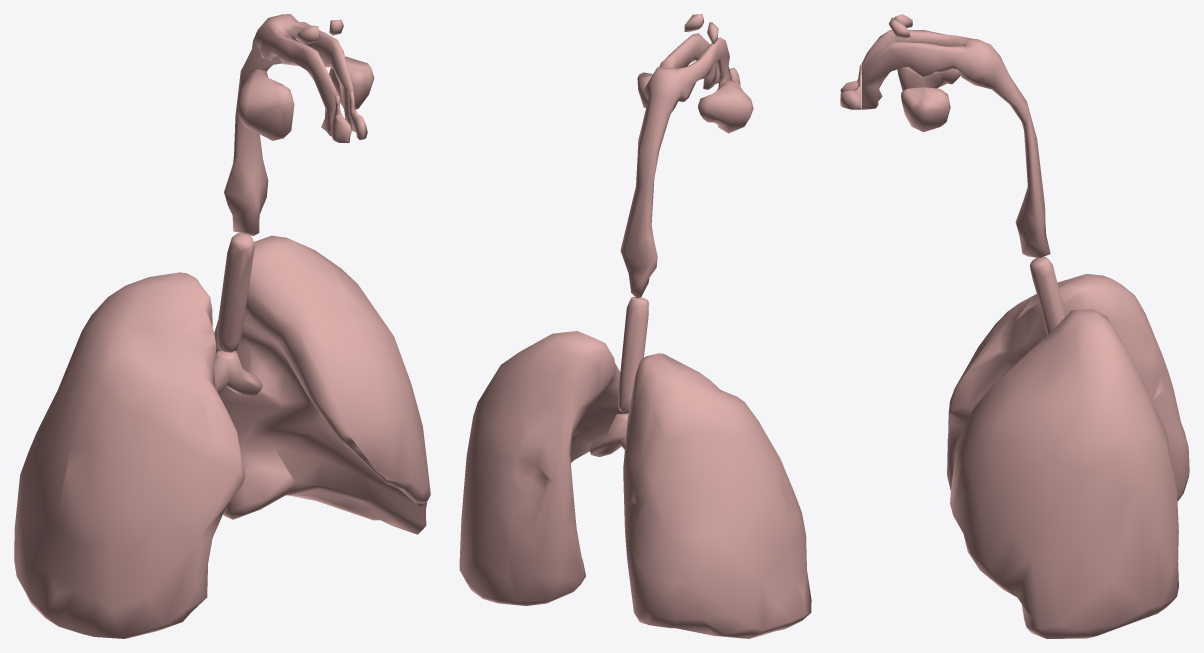
The model's file is pediatric_child_10y_male.respiratory.LOD2.glb.
3 views of the same model, side by side, from view 1: azimuth 30°, elevation 25°; view 2: azimuth 150°, elevation 25°; view 3: azimuth 270°, elevation 25° (orthographic). The views are drawn at different scales.
Visible parts, largest first — view 1: PEDIATRIC.CHILD_10Y.MALE.RESPIRATORY.LUNG.R, PEDIATRIC.CHILD_10Y.MALE.RESPIRATORY.LUNG.L, PEDIATRIC.CHILD_10Y.MALE.RESPIRATORY.ET2, PEDIATRIC.CHILD_10Y.MALE.RESPIRATORY.TRACHEA, PEDIATRIC.CHILD_10Y.MALE.RESPIRATORY.BB1, PEDIATRIC.CHILD_10Y.MALE.RESPIRATORY.ET1; view 2: PEDIATRIC.CHILD_10Y.MALE.RESPIRATORY.LUNG.R, PEDIATRIC.CHILD_10Y.MALE.RESPIRATORY.LUNG.L, PEDIATRIC.CHILD_10Y.MALE.RESPIRATORY.ET2, PEDIATRIC.CHILD_10Y.MALE.RESPIRATORY.TRACHEA, PEDIATRIC.CHILD_10Y.MALE.RESPIRATORY.BB1; view 3: PEDIATRIC.CHILD_10Y.MALE.RESPIRATORY.LUNG.L, PEDIATRIC.CHILD_10Y.MALE.RESPIRATORY.ET2, PEDIATRIC.CHILD_10Y.MALE.RESPIRATORY.LUNG.R, PEDIATRIC.CHILD_10Y.MALE.RESPIRATORY.TRACHEA, PEDIATRIC.CHILD_10Y.MALE.RESPIRATORY.ET1.
Boxes of the visible parts, x1=… form: PEDIATRIC.CHILD_10Y.MALE.RESPIRATORY.LUNG.R: x1=14, y1=272, x2=245, y2=638; PEDIATRIC.CHILD_10Y.MALE.RESPIRATORY.LUNG.L: x1=214, y1=235, x2=430, y2=534; PEDIATRIC.CHILD_10Y.MALE.RESPIRATORY.ET2: x1=224, y1=14, x2=374, y2=235; PEDIATRIC.CHILD_10Y.MALE.RESPIRATORY.TRACHEA: x1=216, y1=233, x2=254, y2=352; PEDIATRIC.CHILD_10Y.MALE.RESPIRATORY.BB1: x1=214, y1=350, x2=262, y2=396; PEDIATRIC.CHILD_10Y.MALE.RESPIRATORY.ET1: x1=330, y1=90, x2=367, y2=142; PEDIATRIC.CHILD_10Y.MALE.RESPIRATORY.LUNG.R: x1=623, y1=353, x2=811, y2=638; PEDIATRIC.CHILD_10Y.MALE.RESPIRATORY.LUNG.L: x1=459, y1=331, x2=628, y2=605; PEDIATRIC.CHILD_10Y.MALE.RESPIRATORY.ET2: x1=620, y1=14, x2=753, y2=298; PEDIATRIC.CHILD_10Y.MALE.RESPIRATORY.TRACHEA: x1=618, y1=297, x2=648, y2=411; PEDIATRIC.CHILD_10Y.MALE.RESPIRATORY.BB1: x1=589, y1=413, x2=628, y2=456; PEDIATRIC.CHILD_10Y.MALE.RESPIRATORY.LUNG.L: x1=950, y1=309, x2=1178, y2=638; PEDIATRIC.CHILD_10Y.MALE.RESPIRATORY.ET2: x1=861, y1=14, x2=1050, y2=257; PEDIATRIC.CHILD_10Y.MALE.RESPIRATORY.LUNG.R: x1=947, y1=274, x2=1189, y2=501; PEDIATRIC.CHILD_10Y.MALE.RESPIRATORY.TRACHEA: x1=1030, y1=256, x2=1065, y2=334; PEDIATRIC.CHILD_10Y.MALE.RESPIRATORY.ET1: x1=840, y1=63, x2=861, y2=109.
Bounding box in the file's own units: 0.1983 × 0.3064 × 0.1759.
